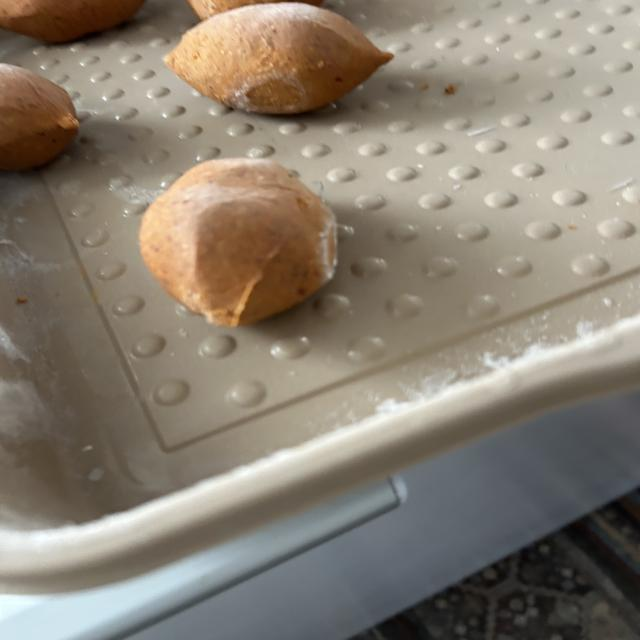kobi: (138, 156, 338, 327), (163, 1, 394, 115), (0, 62, 80, 171)
